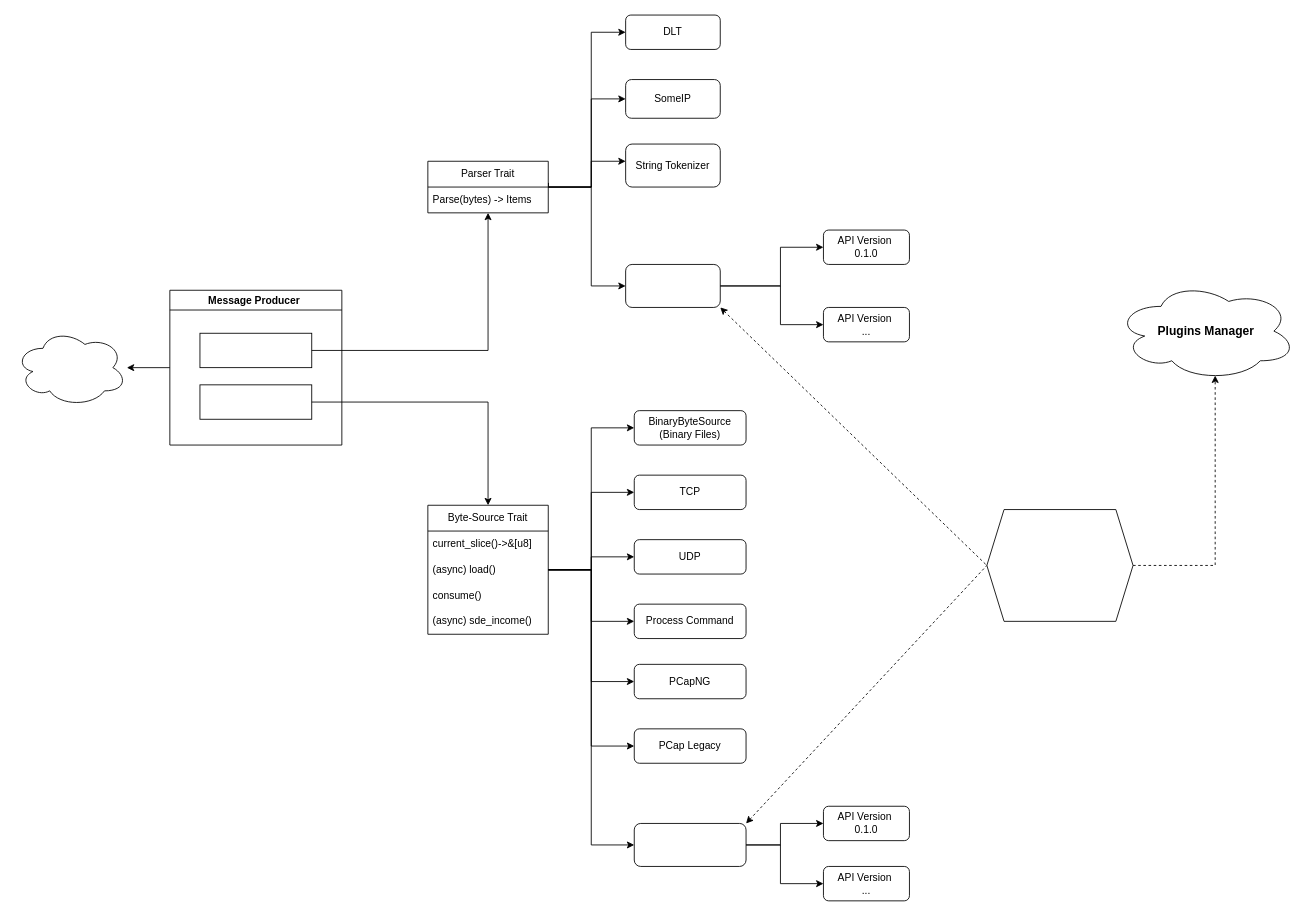
Image size: 1312x916. Some labels were removed from this diagram. The centre of each missing label's shape, as x and y in pixels:
Byte-Source: the point at 255,401
Byte-Source Plugins Host: the point at 689,844
Parser: the point at 255,350
Parser Plugins Host: the point at 672,285
Sessions: the point at 70,367
WasmTime Runtime Engine (Single Instance): the point at 1059,565
